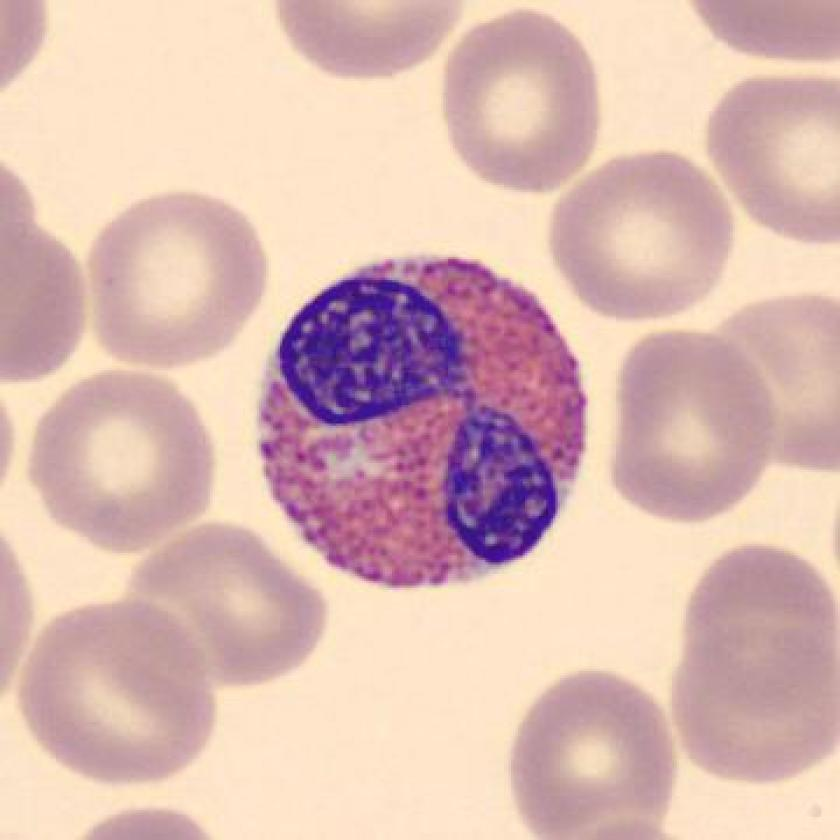eosinophil: (241, 237, 601, 610)
